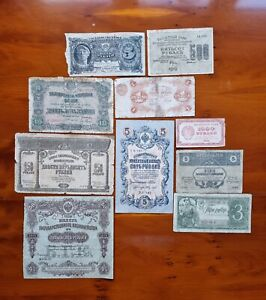cash: (24, 196, 113, 280), (14, 133, 114, 194), (115, 119, 174, 213), (29, 76, 113, 133), (65, 33, 145, 75), (115, 77, 195, 118), (147, 28, 214, 76), (173, 194, 251, 232), (176, 150, 243, 194), (176, 118, 225, 147)
